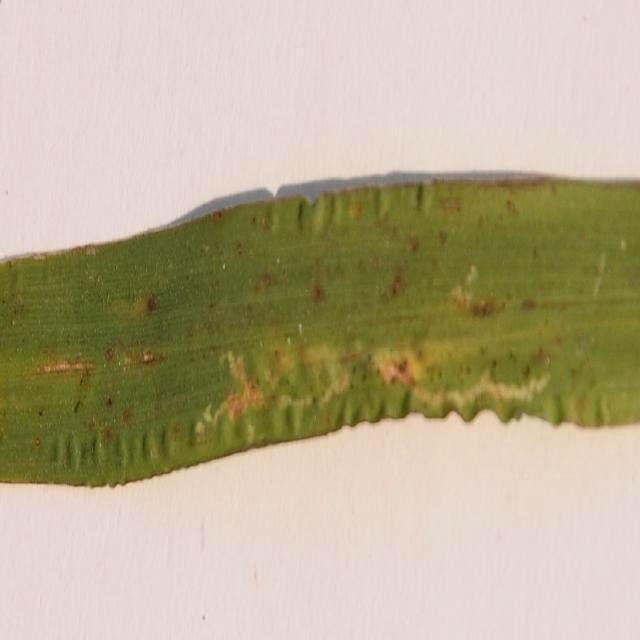Leafsmut: (63, 290, 111, 316), (356, 187, 375, 223), (576, 342, 613, 360), (542, 318, 556, 360), (400, 197, 415, 235), (32, 299, 59, 318), (196, 386, 222, 400), (444, 239, 474, 250), (489, 298, 502, 320), (94, 353, 109, 372), (222, 342, 234, 364), (536, 300, 547, 322), (103, 346, 113, 368), (234, 305, 248, 320), (517, 365, 527, 386), (374, 246, 391, 258), (632, 398, 640, 423), (498, 236, 514, 248), (574, 226, 590, 238), (614, 315, 624, 334), (94, 295, 105, 311), (574, 232, 585, 248), (257, 358, 267, 373), (474, 397, 484, 410), (285, 357, 294, 371), (304, 362, 313, 376), (172, 280, 183, 291), (350, 287, 359, 300), (140, 324, 148, 336), (451, 270, 459, 282), (526, 416, 534, 428), (381, 338, 388, 351), (205, 352, 214, 362), (204, 358, 212, 368), (130, 327, 136, 337), (108, 338, 114, 348), (202, 285, 208, 294), (322, 284, 328, 291)
